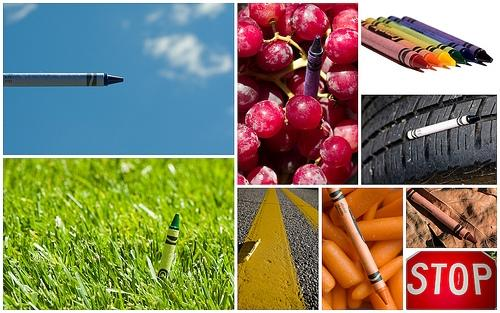carrot: (330, 188, 394, 226), (351, 256, 403, 300), (322, 239, 365, 289), (322, 211, 362, 262), (362, 239, 403, 280), (356, 216, 403, 241), (368, 283, 398, 310), (386, 266, 403, 310), (374, 195, 402, 220), (322, 187, 358, 203), (378, 188, 402, 210), (332, 282, 348, 310), (322, 264, 336, 295), (362, 200, 380, 222), (348, 282, 362, 309), (322, 290, 332, 310), (322, 296, 333, 310)
grape: (245, 100, 285, 138), (290, 4, 329, 40), (285, 94, 323, 130), (324, 27, 358, 65), (271, 6, 303, 46), (286, 70, 324, 103), (262, 122, 300, 154), (256, 39, 293, 71), (298, 122, 328, 161), (326, 64, 358, 100), (319, 136, 352, 168), (317, 98, 348, 132), (238, 22, 264, 58), (248, 3, 286, 27), (333, 119, 358, 153), (238, 75, 260, 113), (254, 80, 284, 107), (238, 126, 260, 162), (321, 160, 353, 184), (292, 164, 328, 185), (246, 166, 278, 185), (332, 8, 358, 30), (330, 3, 358, 20), (238, 5, 254, 19), (238, 171, 250, 185)
